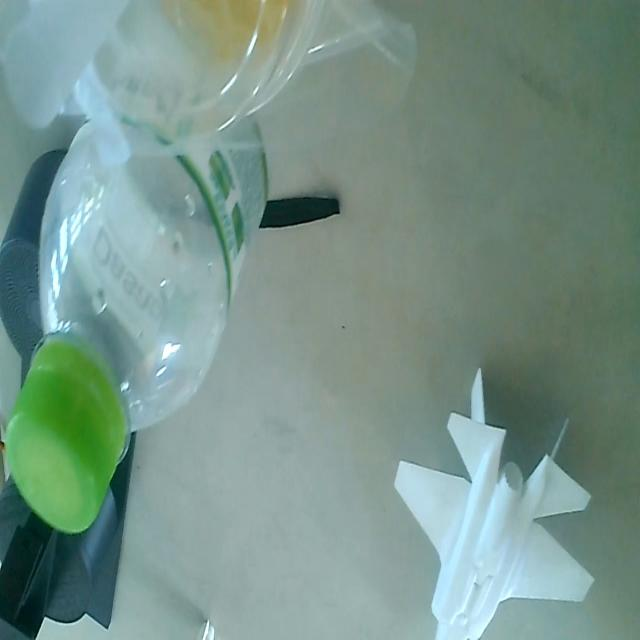Jet: (385, 360, 599, 640)
